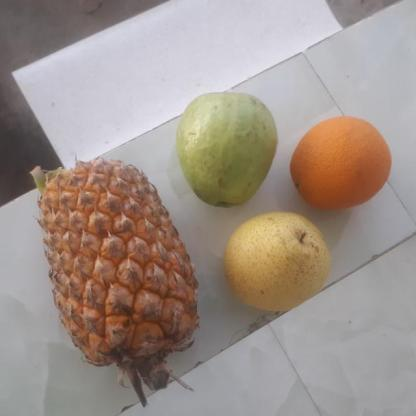guava: (170, 96, 275, 206)
orange: (287, 117, 394, 213)
pear: (220, 210, 334, 314)
pineapple: (31, 155, 191, 364)
